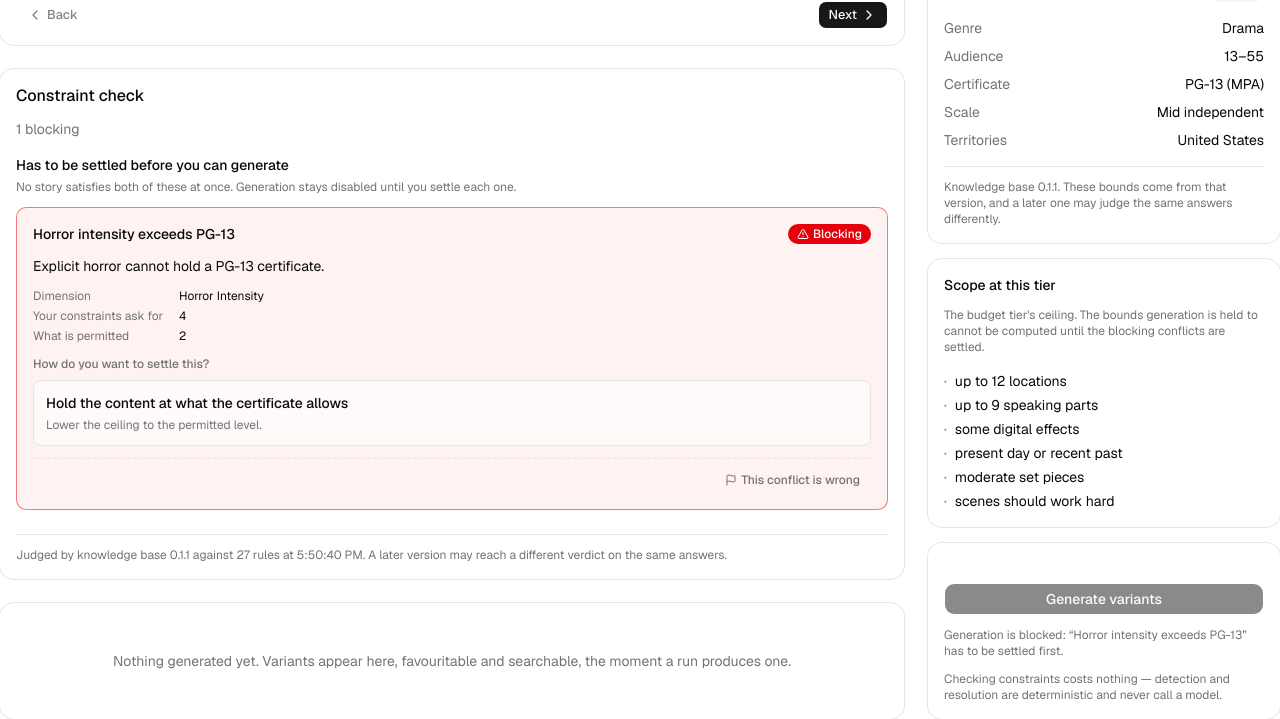
Test: ProjectWorkspace › updates the scope preview the moment a resolution is selected
(page scrolled)
Step 1. Click the radio button labelled "Hold the content" → click(197, 403), box x1=33 y1=380 x2=871 y2=446
Wait 360 ms
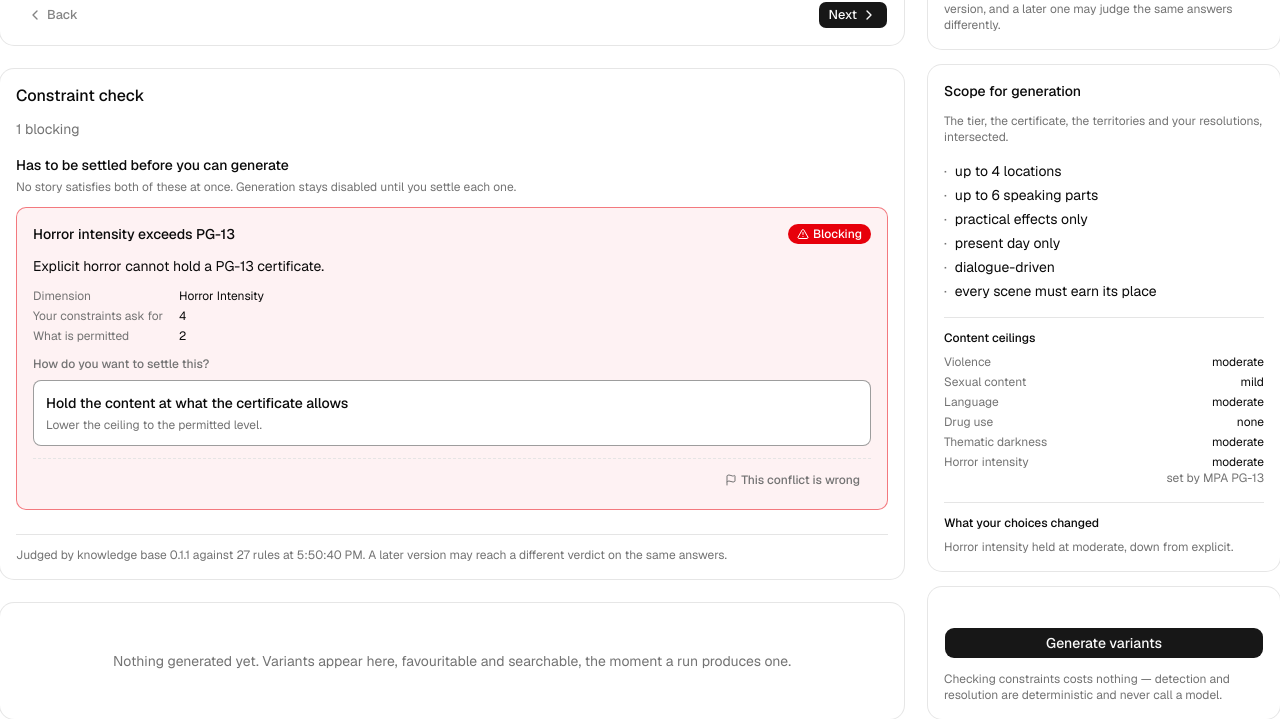
Check: the text "Scope for generation" is shown, box x1=944 y1=81 x2=1081 y2=101
Check: the text "up to 4 locations" is shown, box x1=955 y1=161 x2=1062 y2=181
Check: the text "up to 12 locations" is gone
